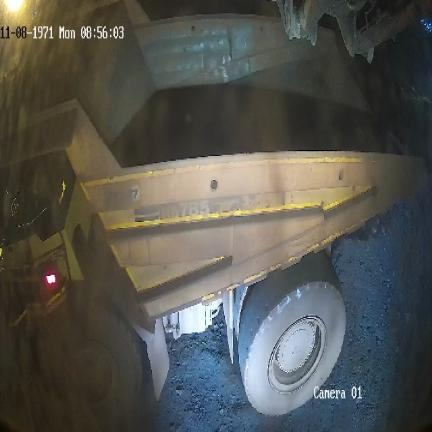pile: (332, 187, 431, 426)
